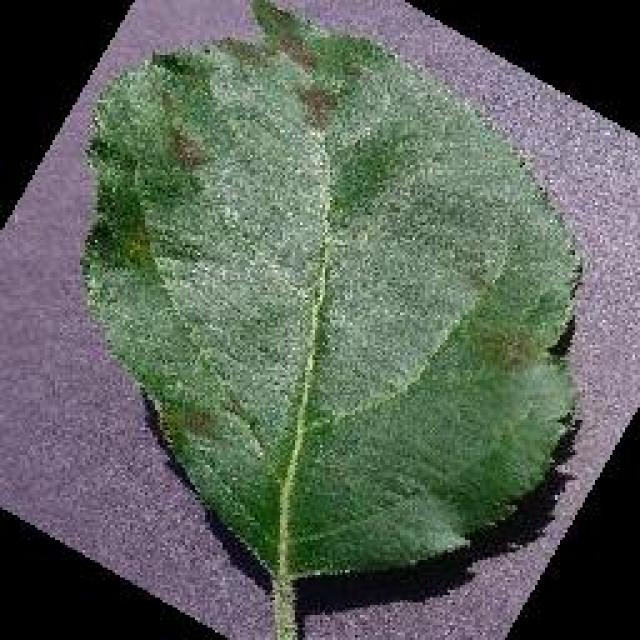apple scab disease: (75, 0, 587, 590)
